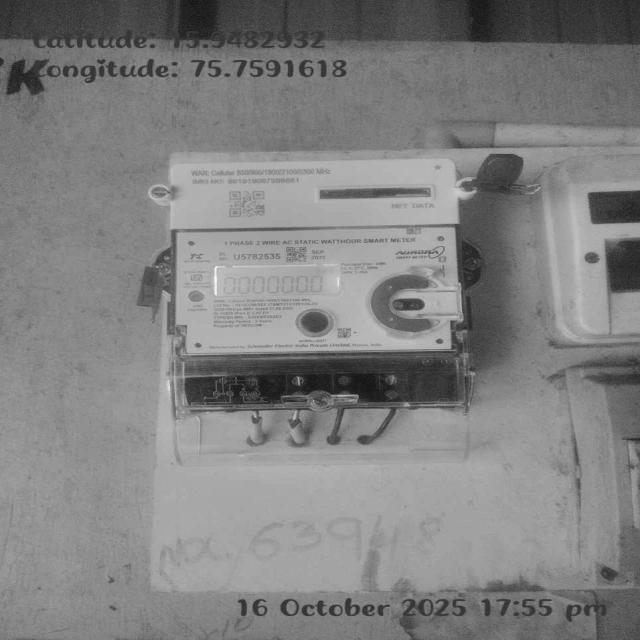meter: (166, 158, 462, 355)
